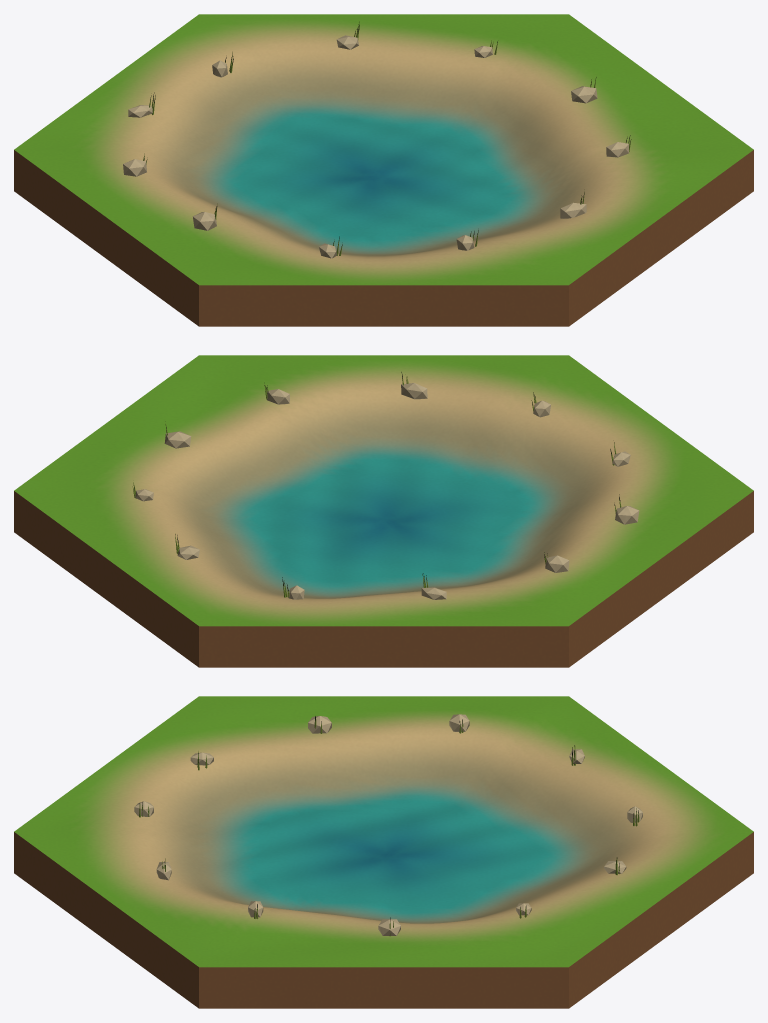
File: SM_LagoNatural_A_LOD0.fbx
3 views of the same model, one above another, from view 1: azimuth 30°, elevation 25°; view 2: azimuth 150°, elevation 25°; view 3: azimuth 270°, elevation 25° (orthographic).
Visible parts, largest first — view 1: SM_LagoNatural_A_LOD0; view 2: SM_LagoNatural_A_LOD0; view 3: SM_LagoNatural_A_LOD0.
Part boxes in pixels (left/top/right/bottom): SM_LagoNatural_A_LOD0: left=14, top=14, right=753, bottom=326; SM_LagoNatural_A_LOD0: left=14, top=355, right=753, bottom=667; SM_LagoNatural_A_LOD0: left=14, top=696, right=753, bottom=1008.
Bounding box in the file's own units: 1.68 × 0.183 × 1.94.
1 material, 1 textured.
